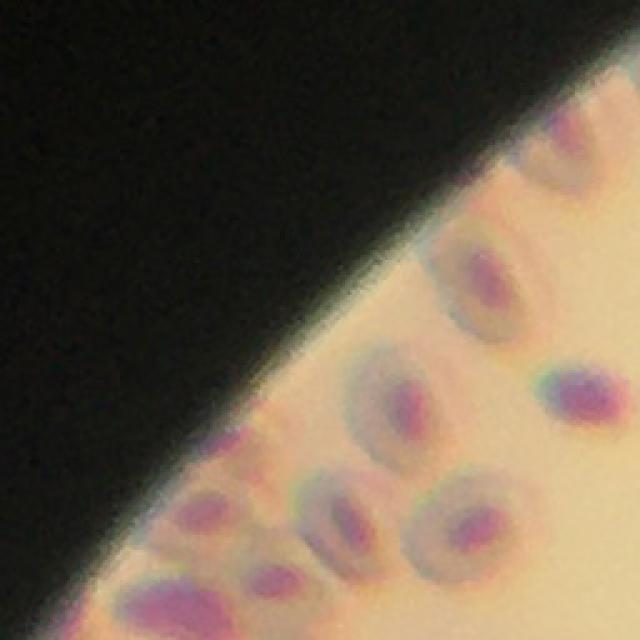RBC: (418, 206, 558, 360), (402, 466, 551, 589), (344, 342, 455, 480), (294, 469, 406, 596), (220, 543, 339, 637), (512, 99, 613, 207), (142, 478, 253, 561)
WBC: (114, 571, 244, 640), (539, 361, 630, 428)
